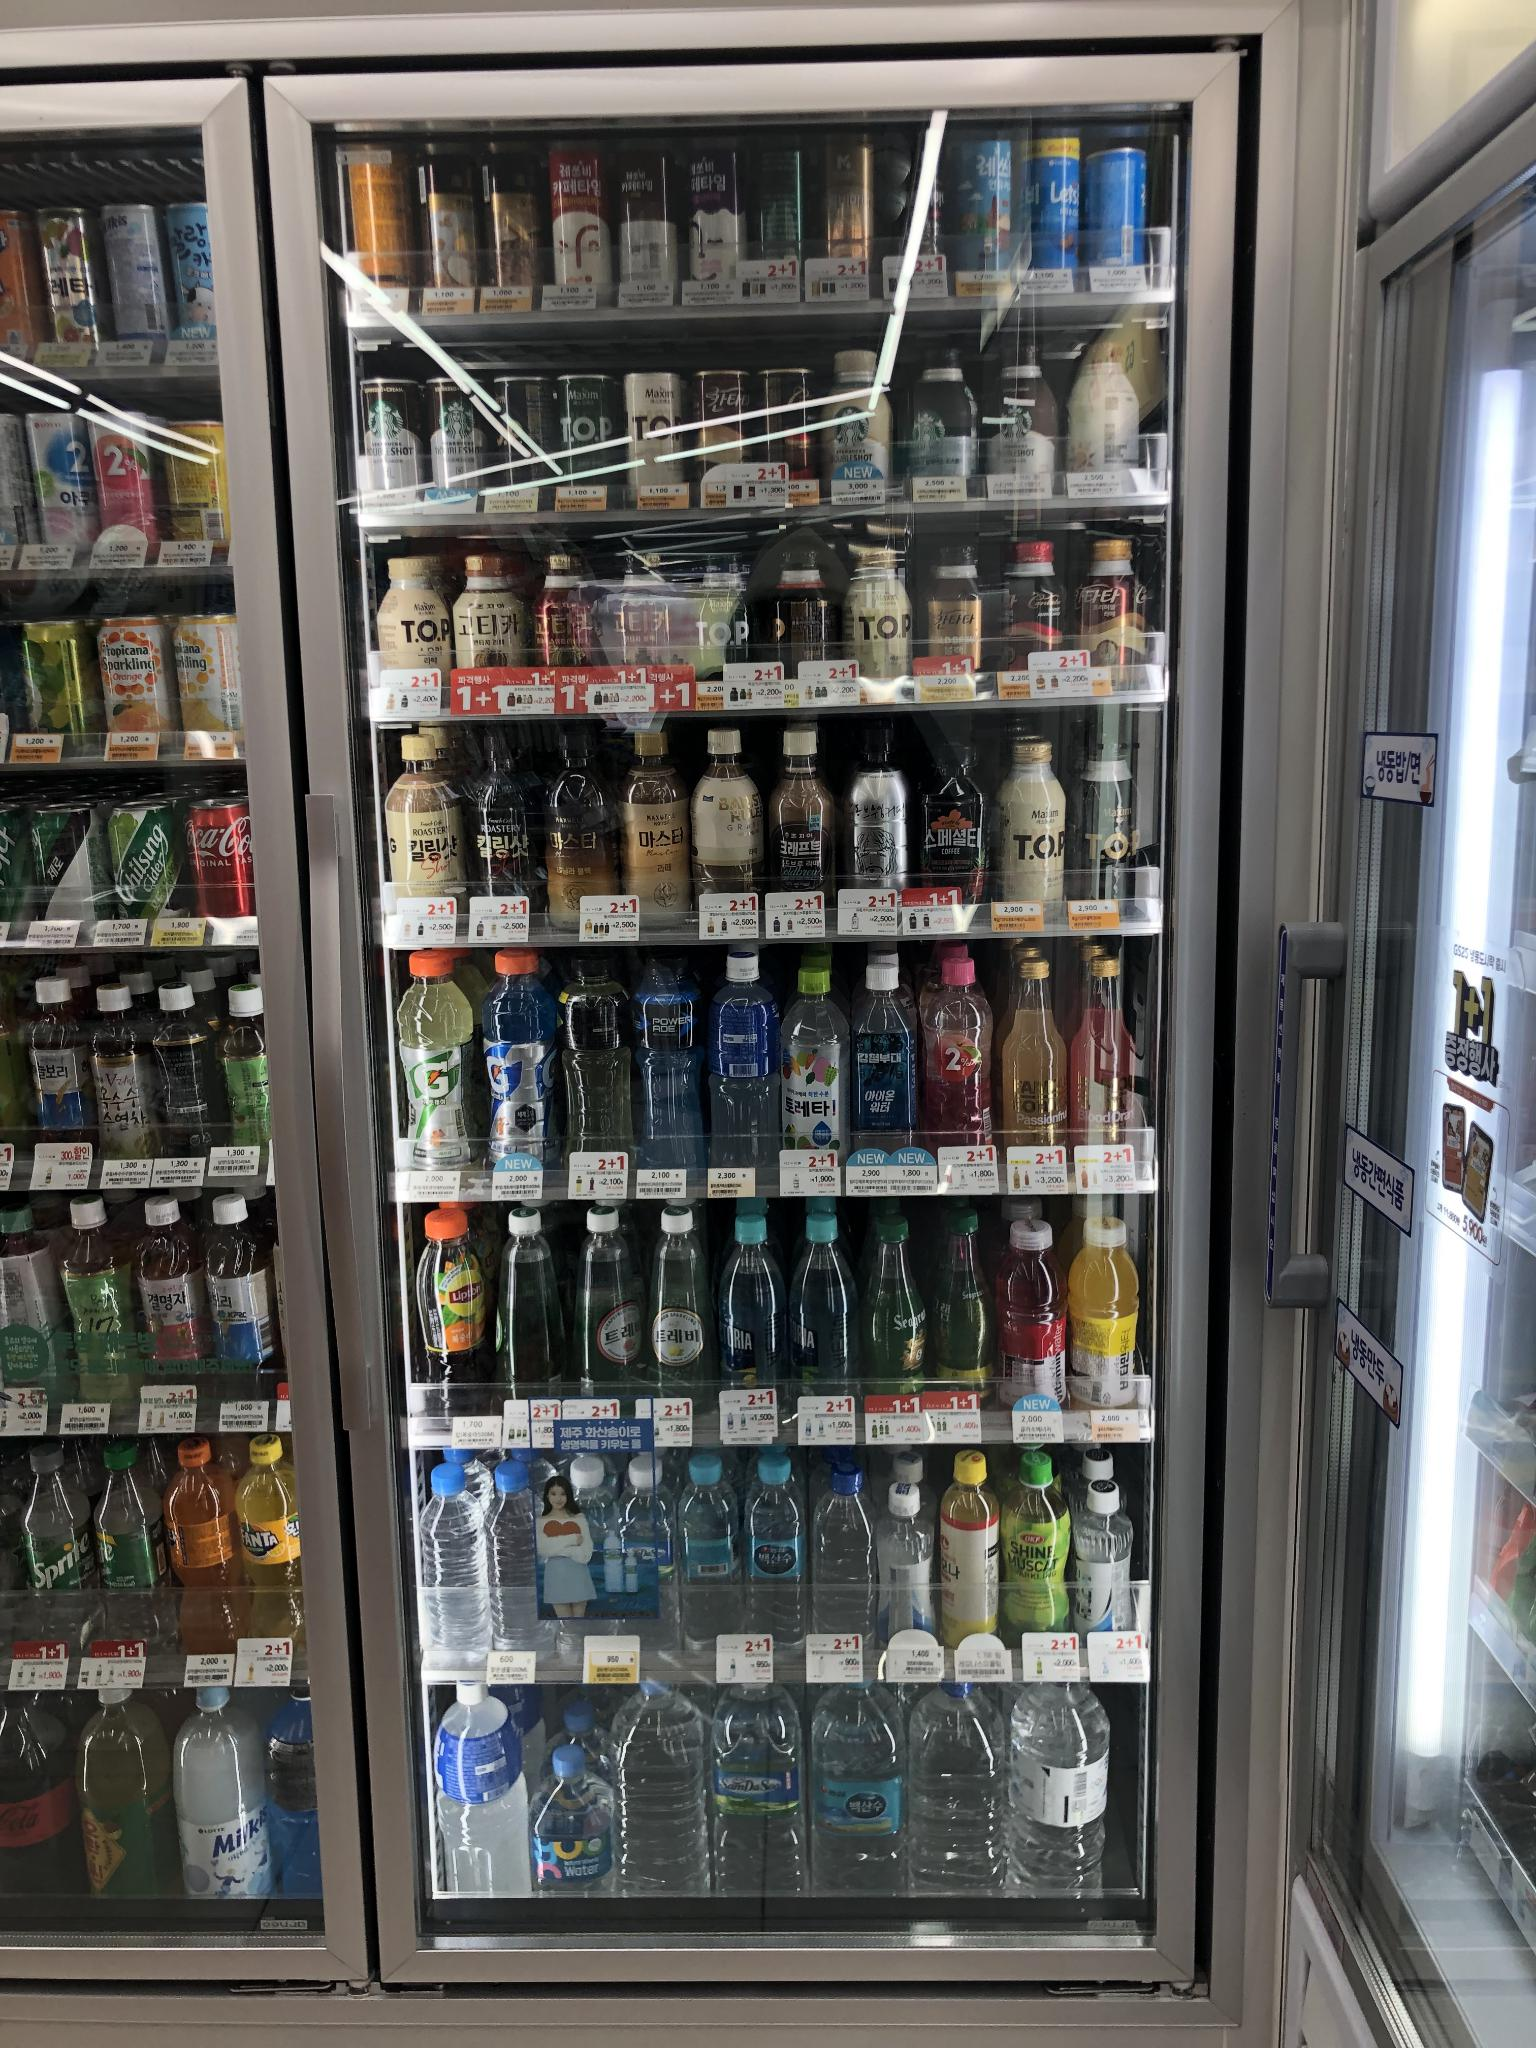TOP_black: (684, 552, 766, 684)
gatorade_lemon: (392, 945, 490, 1171)
haneulbori: (19, 971, 103, 1156)
letsbe: (1084, 139, 1155, 269)
oksususuyeomcha: (82, 977, 160, 1161)
pocarisweat: (703, 942, 789, 1169)
powerade_mountainblast: (623, 953, 705, 1180)
sprite_zero: (18, 1438, 106, 1650)
toreta: (779, 956, 850, 1164)
